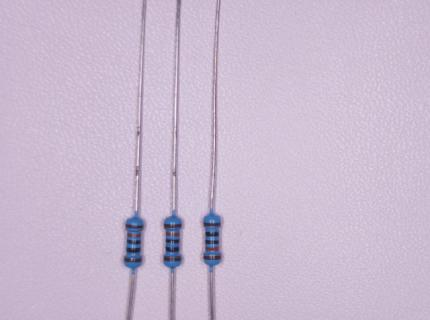Black band: (127, 248, 140, 253), (166, 239, 179, 243), (166, 247, 179, 251), (206, 240, 219, 244), (127, 240, 140, 244), (206, 232, 218, 236)
Brown band: (125, 257, 141, 263), (126, 224, 143, 228), (164, 257, 181, 261), (204, 256, 221, 260), (165, 224, 181, 228), (204, 223, 220, 226)
Orange band: (166, 232, 179, 237), (127, 233, 140, 237), (207, 247, 219, 251)
